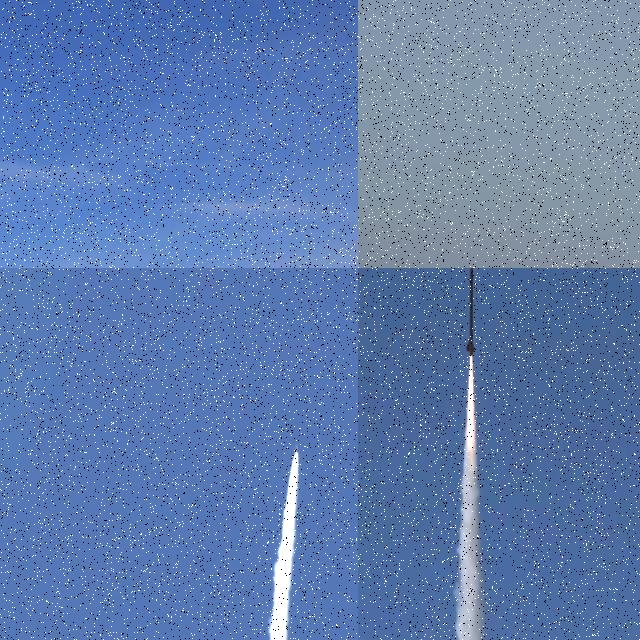Rocket: (466, 268, 475, 355), (295, 442, 299, 453)
